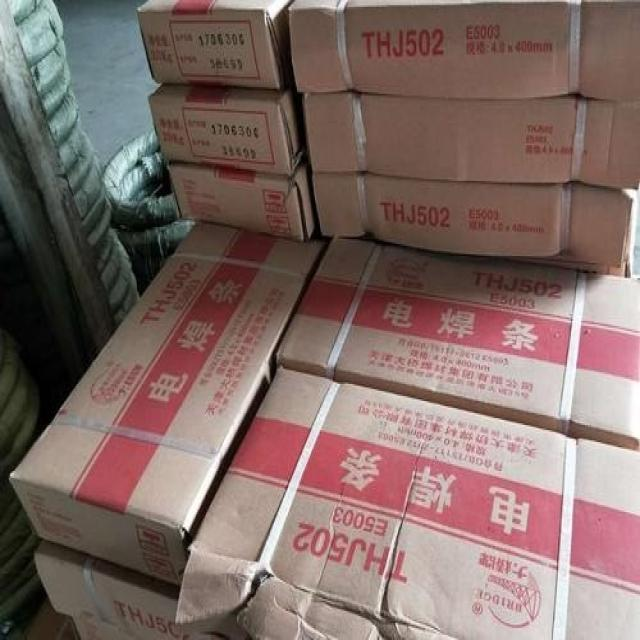box: (173, 365, 640, 640), (9, 222, 324, 585), (276, 234, 639, 451), (289, 0, 640, 101), (314, 174, 637, 276), (302, 92, 639, 188), (36, 541, 189, 638), (147, 85, 308, 176), (136, 0, 296, 89), (166, 150, 315, 239)
